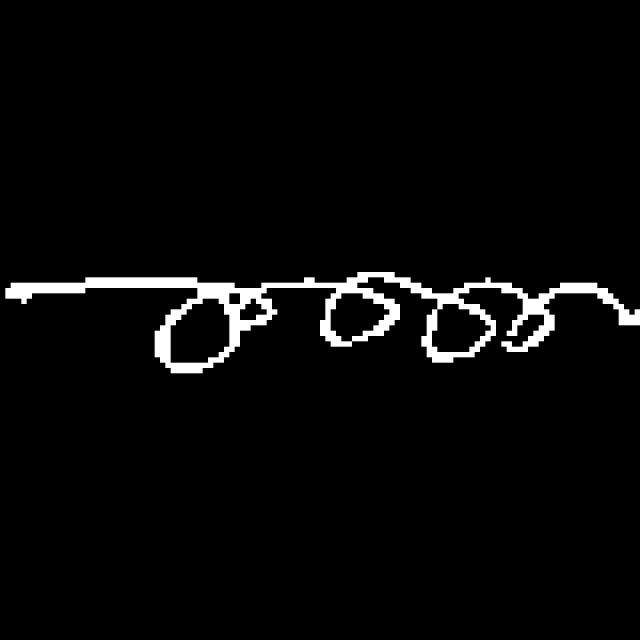inductor: (128, 234, 640, 394)
